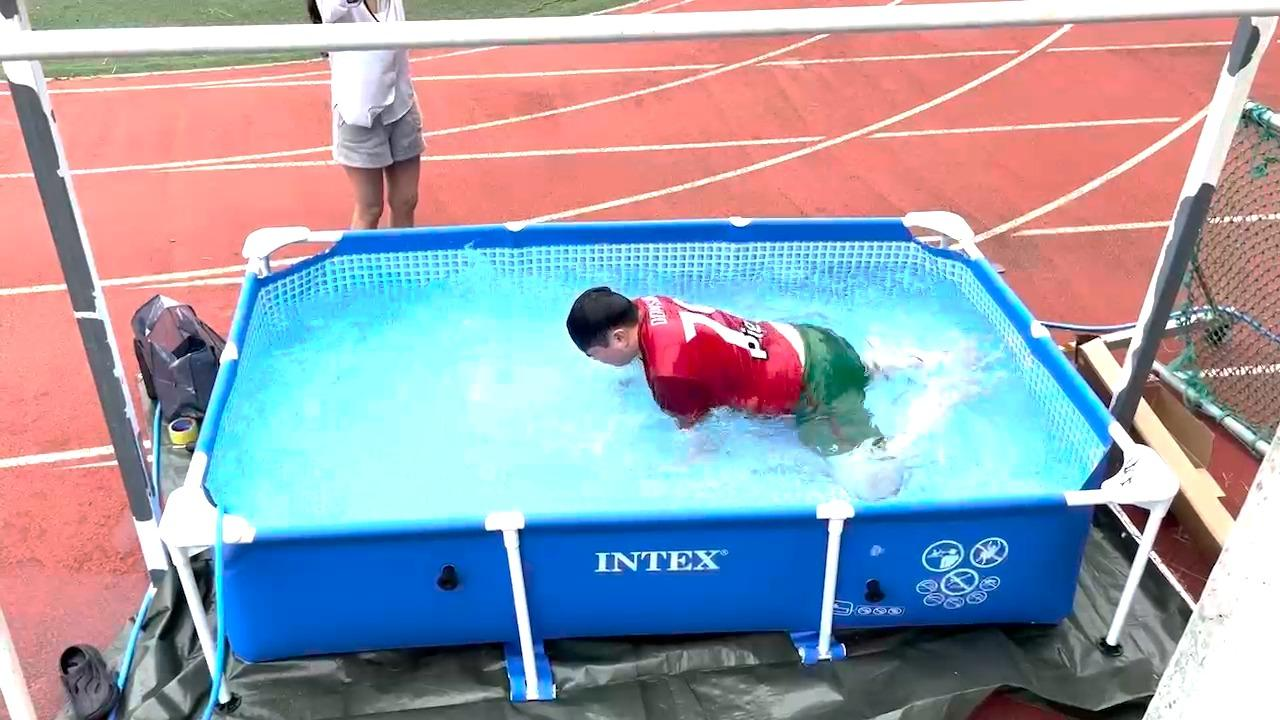Drowning: (539, 259, 1043, 516)
Person-out-of-water: (290, 0, 437, 236)
